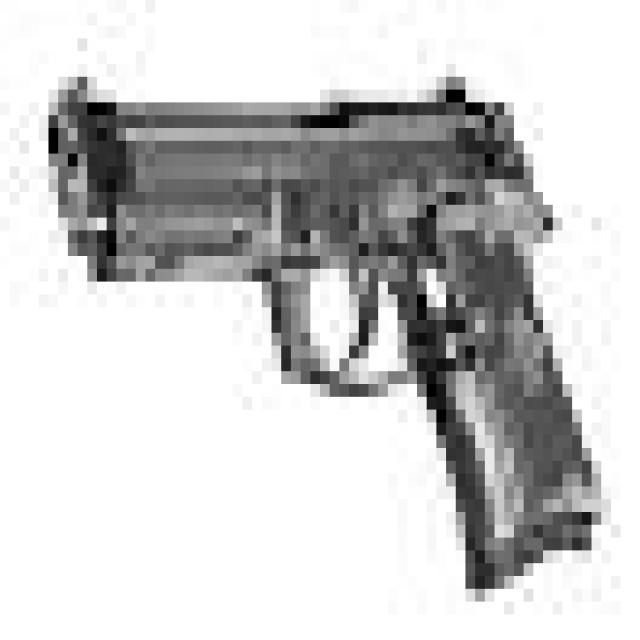pistol: (30, 48, 620, 613)
